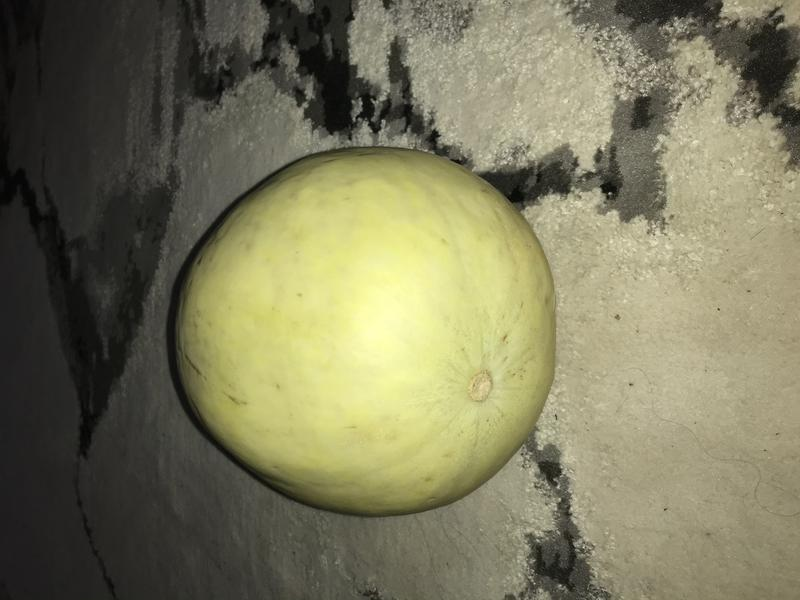honeydew: (144, 128, 574, 527)
